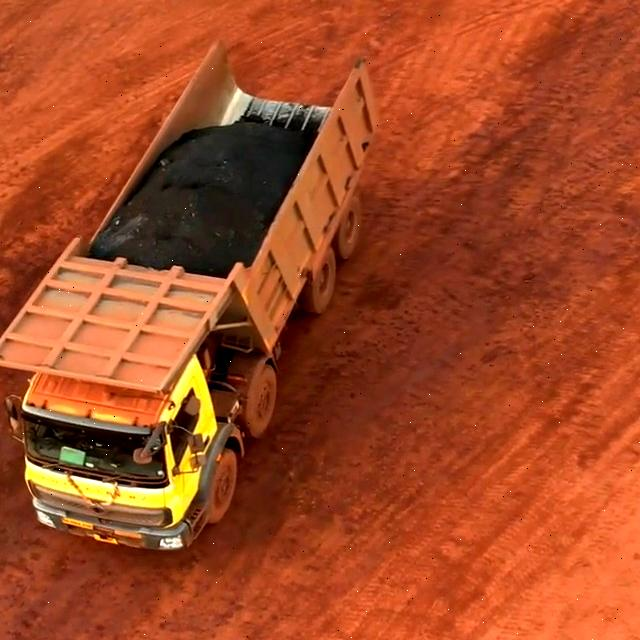Dumper truck: (10, 283, 231, 554)
